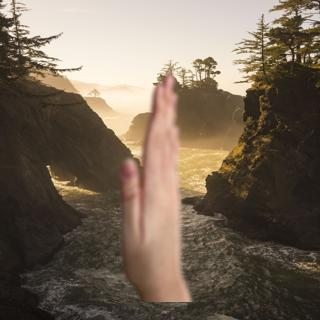Right: (112, 69, 199, 302)
